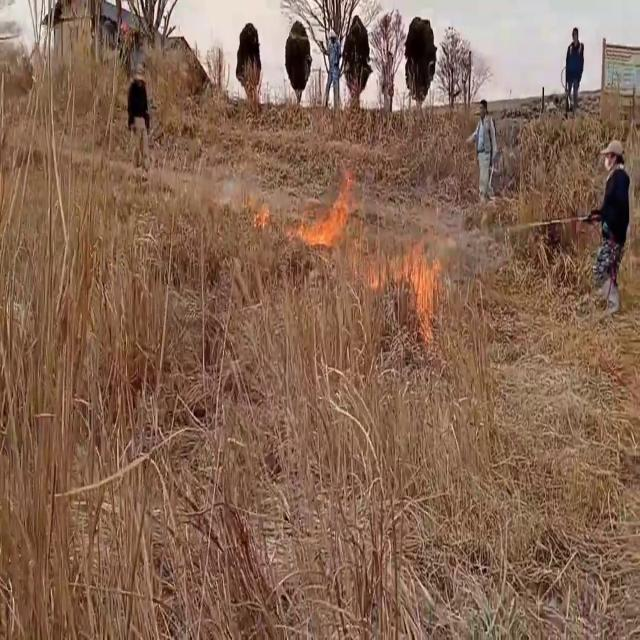Fire: (392, 225, 446, 339), (295, 168, 358, 254)
